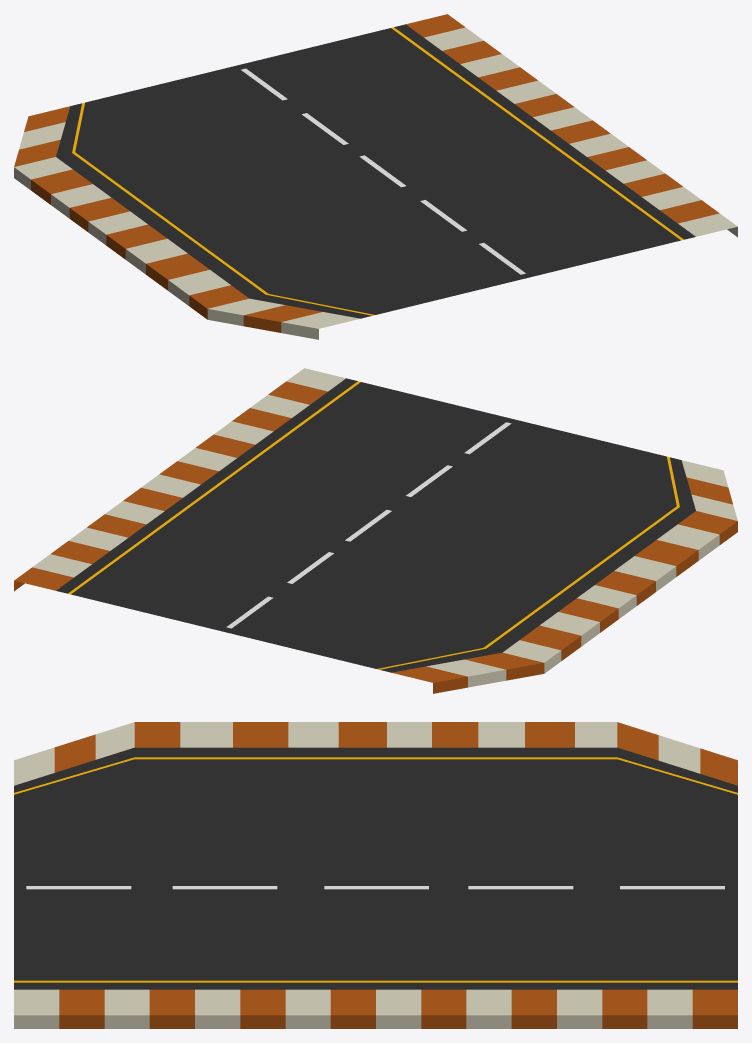
The model's file is SM_Road_06.fbx.
3 views of the same model, one above another, from view 1: azimuth 30°, elevation 25°; view 2: azimuth 150°, elevation 25°; view 3: azimuth 270°, elevation 25° (orthographic). The views are drawn at different scales.
Visible parts, largest first — view 1: SM_Road_06_LOD0; view 2: SM_Road_06_LOD0; view 3: SM_Road_06_LOD0.
Part boxes in pixels (left/top/right/bottom): SM_Road_06_LOD0: left=14, top=14, right=737, bottom=339; SM_Road_06_LOD0: left=14, top=368, right=737, bottom=693; SM_Road_06_LOD0: left=14, top=722, right=737, bottom=1028.
Bounding box in the file's own units: 1150 × 1200 × 25.
1 material, 1 textured.
